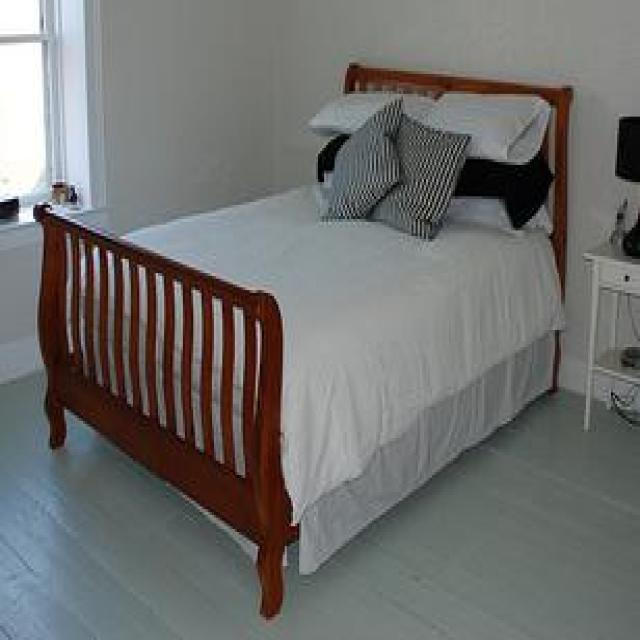bed: (33, 60, 574, 617)
